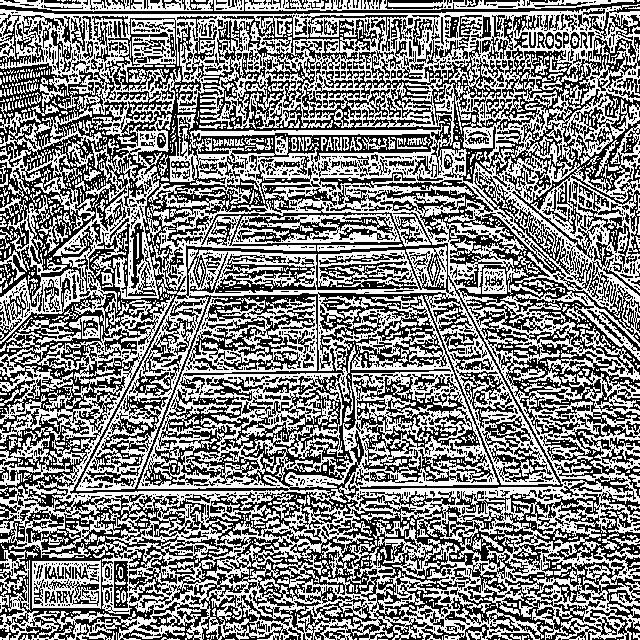left side: (73, 214, 241, 491), (390, 213, 560, 485)
player: (325, 339, 365, 502), (247, 160, 266, 210)
